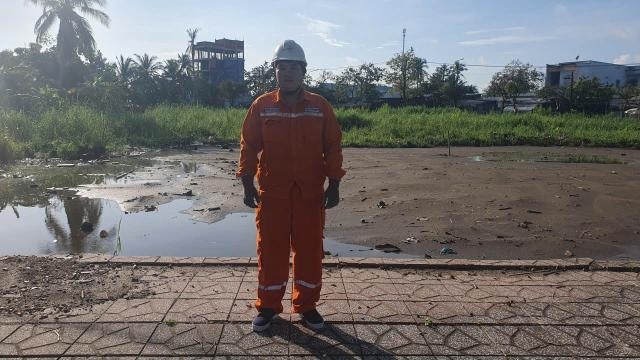gloves: (315, 175, 347, 212), (232, 173, 259, 216)
helmet: (256, 32, 316, 71)
shoes: (292, 293, 338, 336), (248, 298, 289, 337)
